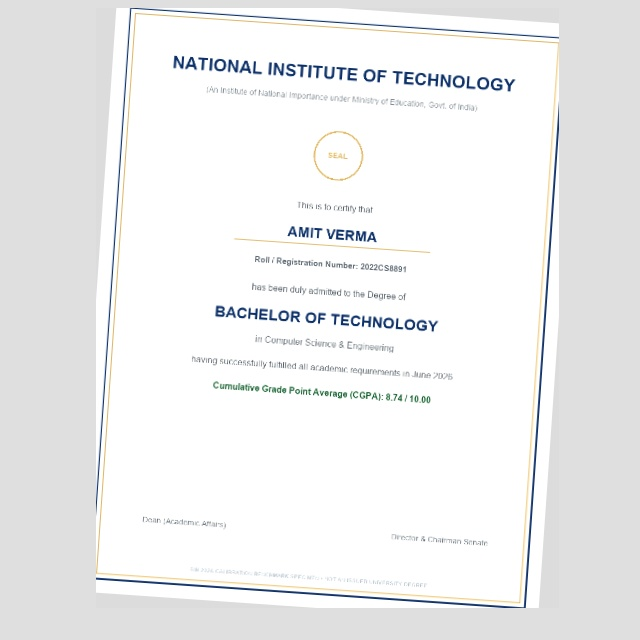marksheet: (96, 8, 559, 608)
